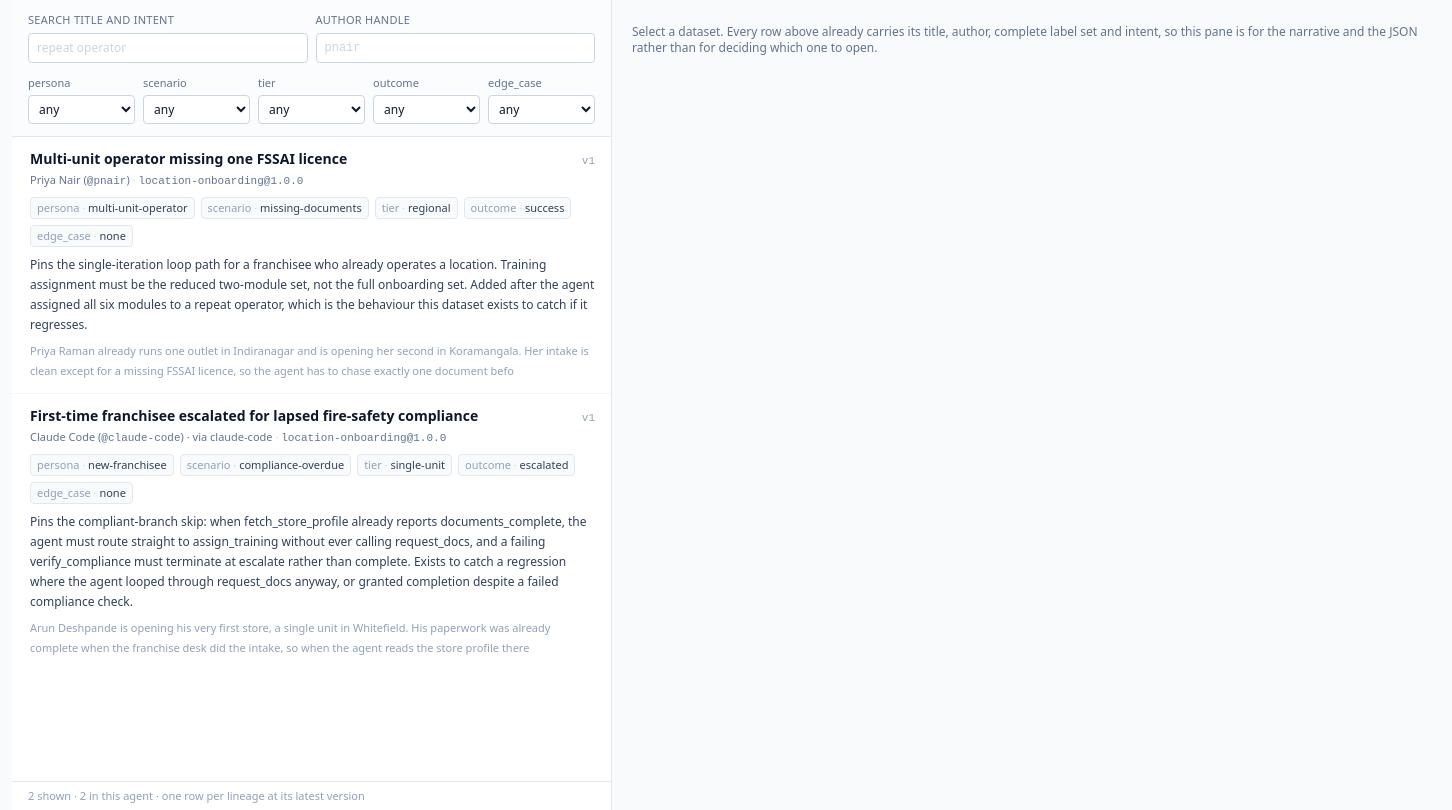
Test case: clause 2: finding the Priya dataset › filtering a label dimension sends labels, not a client-side filter
expect the number of list items with test id "dataset-row" is 2: met, box x1=12 y1=137 x2=611 y2=394; x1=12 y1=394 x2=611 y2=670
Step 1. Select "multi-unit-operator (0)" in the dropdown with test id "filter-label-persona" → (82, 110), box x1=28 y1=95 x2=135 y2=124
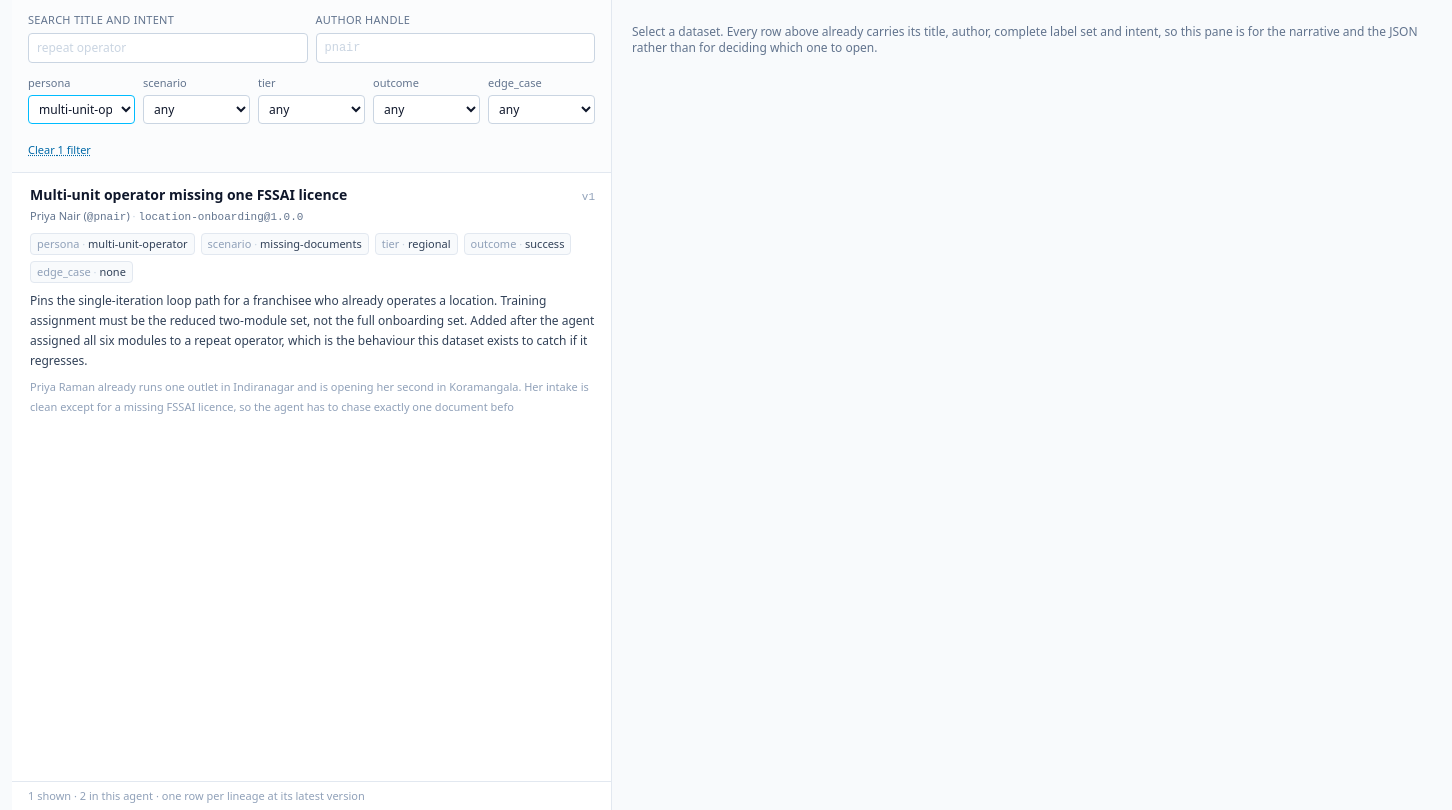
expect the number of list items with test id "dataset-row" is 1: met, box x1=12 y1=173 x2=611 y2=429
